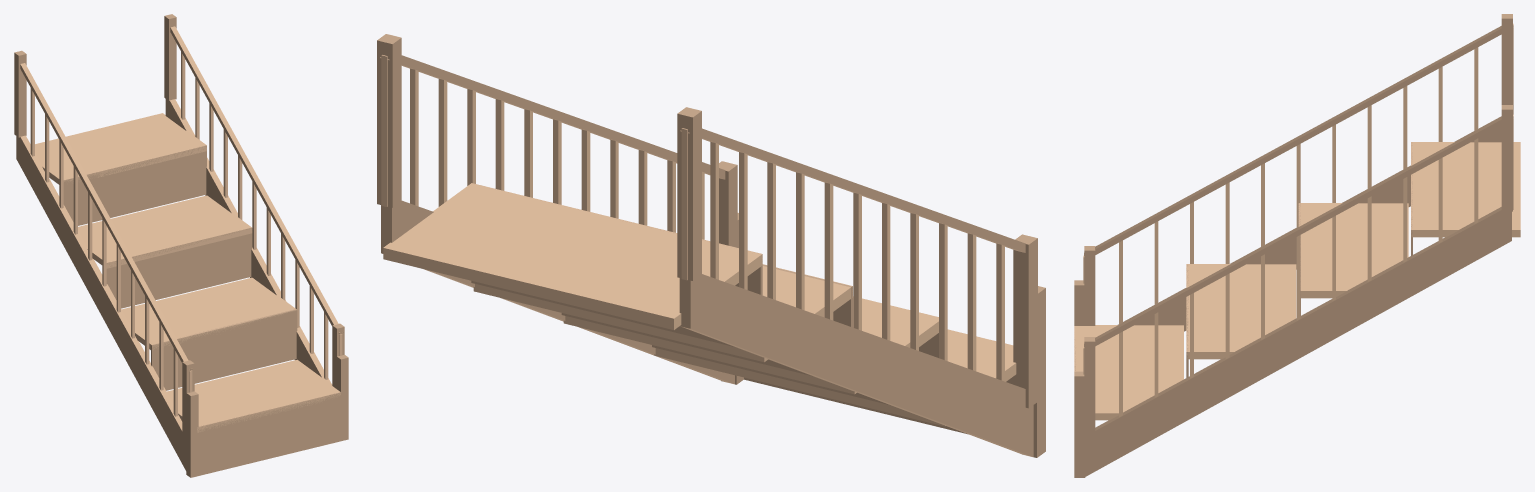
File: stairGrand.glb
3 renders of one model, left to right at view 1: azimuth 30°, elevation 25°; view 2: azimuth 150°, elevation 25°; view 3: azimuth 270°, elevation 25°, orthographic. The views are drawn at different scales.
Visible parts, largest first — view 1: stairGrand; view 2: stairGrand; view 3: stairGrand.
Boxes of the visible parts, <box> form: stairGrand: <box>14,14,348,477</box>; stairGrand: <box>377,34,1045,457</box>; stairGrand: <box>1074,14,1520,477</box>.
Bounding box in the file's own units: 1.01 × 1.81 × 1.99.
